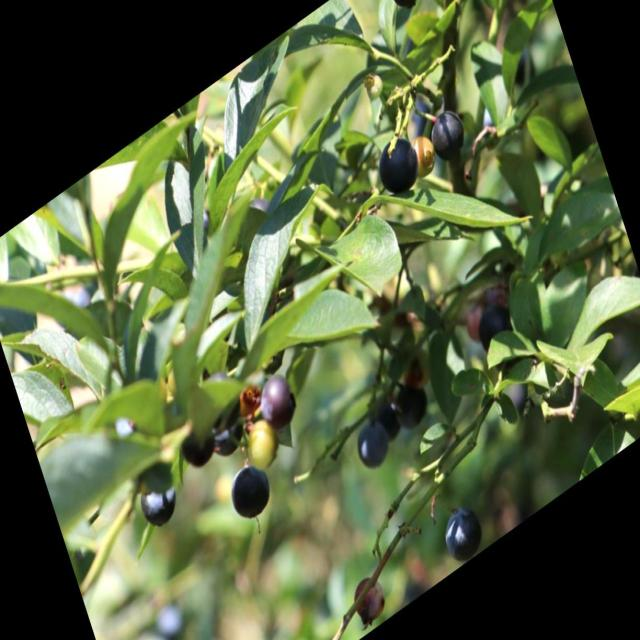blueberry: (368, 121, 427, 206), (222, 448, 278, 532), (434, 492, 490, 572), (252, 362, 302, 438), (133, 468, 183, 540), (424, 96, 472, 169), (346, 565, 394, 636), (389, 369, 436, 439), (472, 295, 518, 363), (351, 410, 397, 478), (176, 421, 218, 477), (376, 0, 433, 20), (412, 0, 461, 1)
blueberry-unripe: (238, 409, 282, 475), (404, 132, 439, 182)
